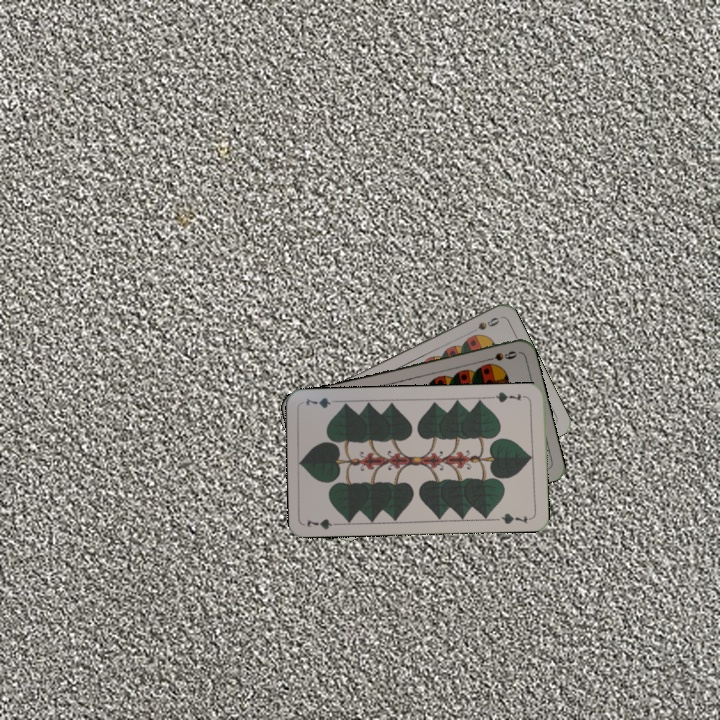G7: (303, 515, 344, 532), (489, 388, 529, 405)
S9: (464, 313, 502, 337), (479, 347, 520, 364)
